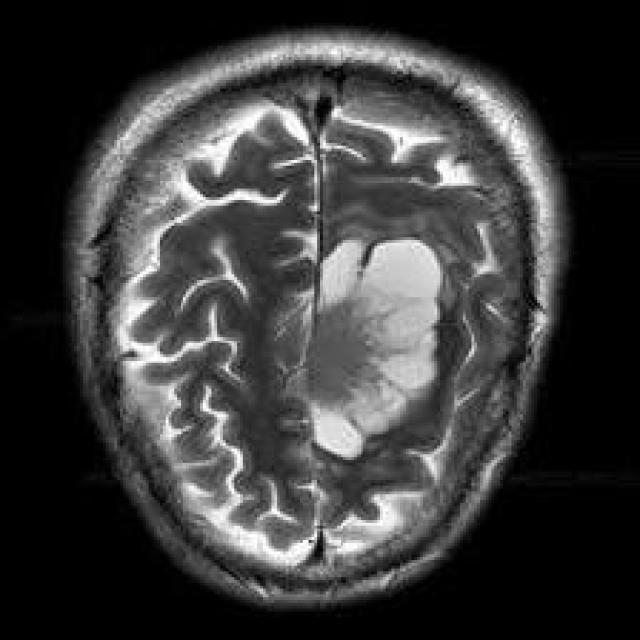meningioma_tumor: (301, 224, 454, 468)
